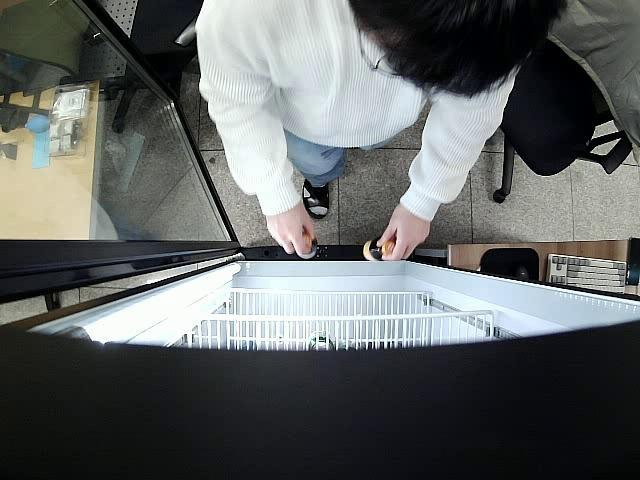17_vita500: (362, 238, 394, 263), (297, 232, 318, 261)
